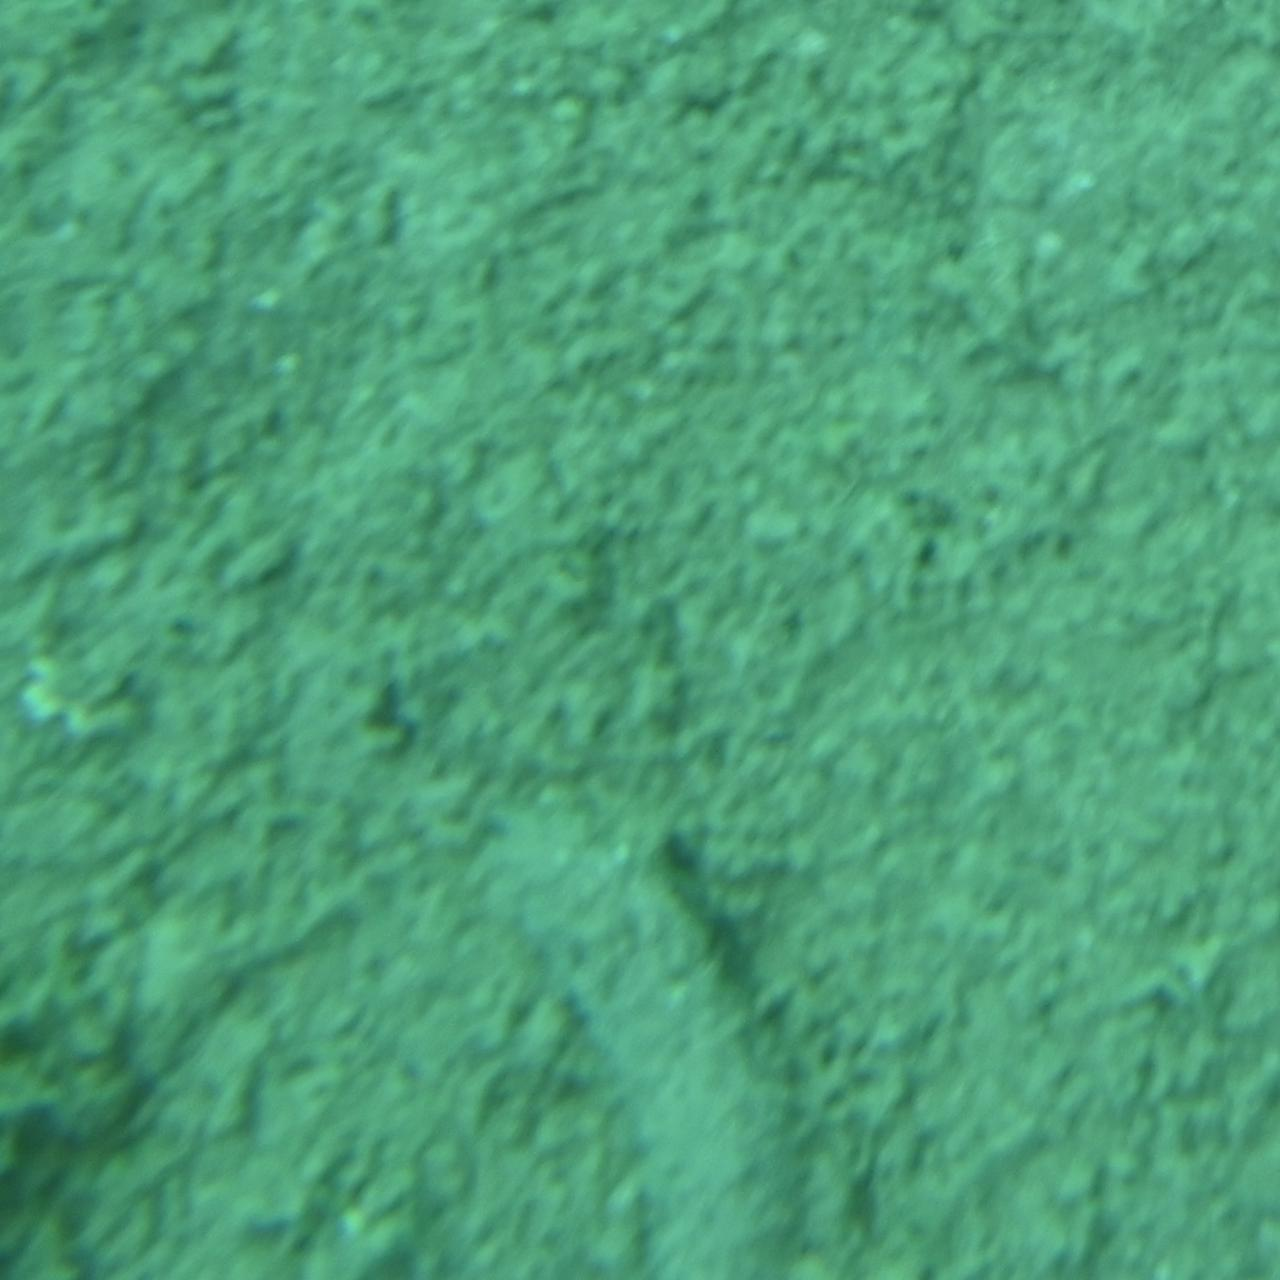Holothuria tubulosa: (465, 789, 815, 1279)
